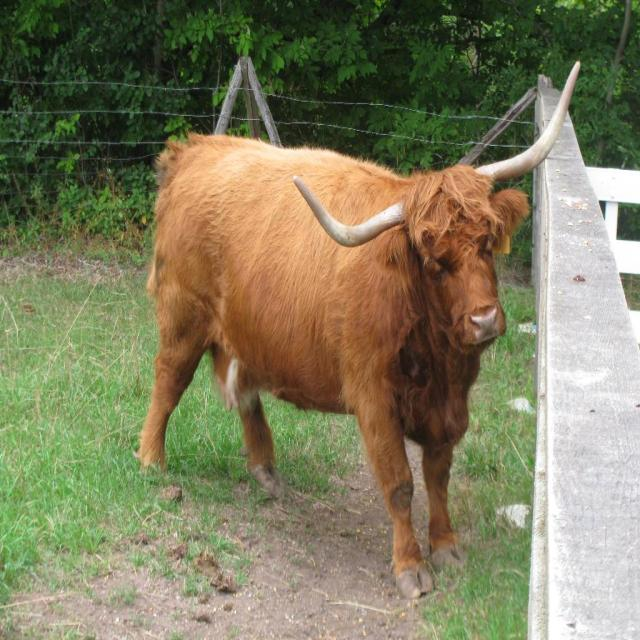Deer: (136, 59, 582, 598)
